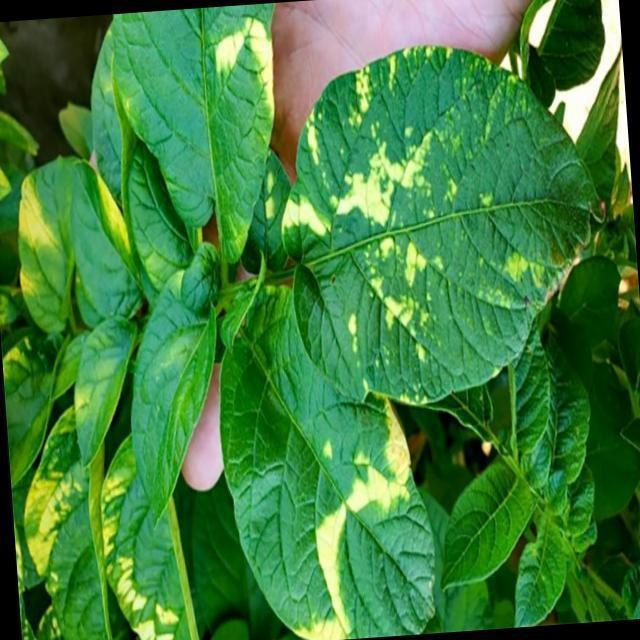Mosaic Virus: (284, 46, 578, 386), (268, 394, 420, 640), (101, 437, 179, 640), (11, 443, 91, 640), (200, 3, 282, 142)
